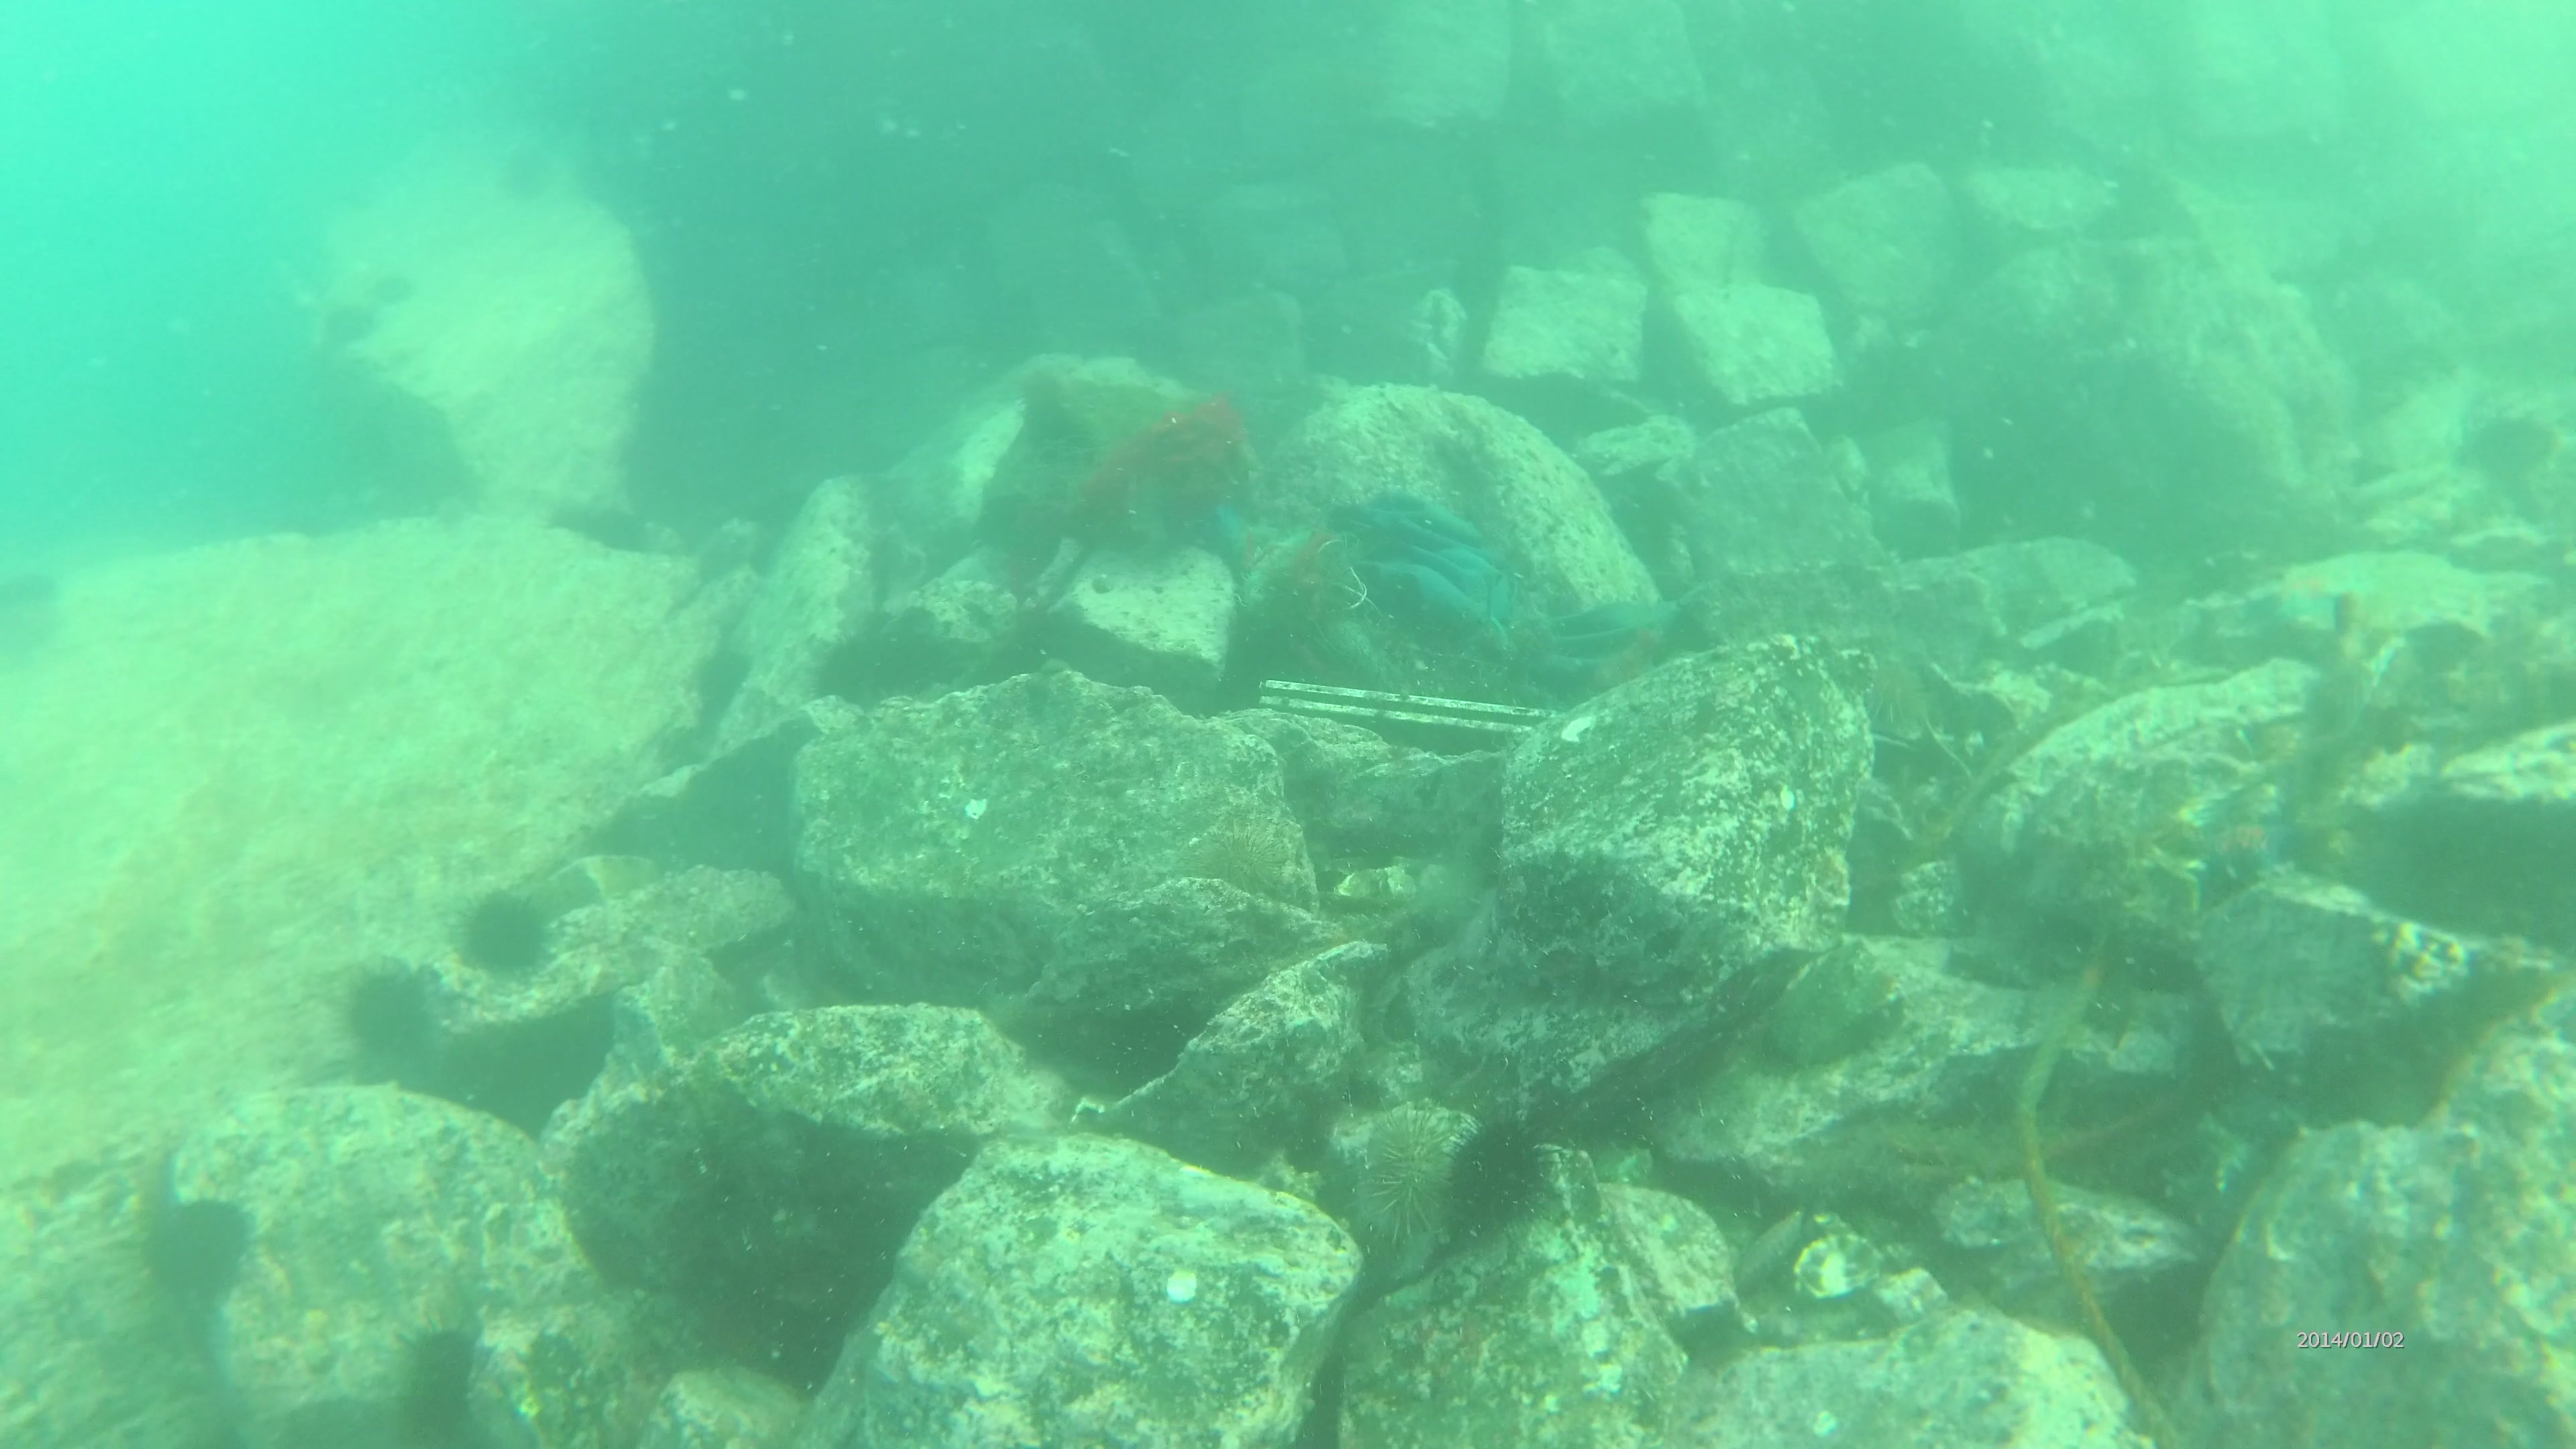echinus: (1445, 1104, 1562, 1242), (1368, 1095, 1465, 1242), (140, 1194, 257, 1302), (1200, 819, 1306, 918), (453, 883, 557, 980), (534, 492, 639, 589), (405, 1322, 497, 1424), (349, 961, 439, 1062), (0, 571, 74, 669), (370, 264, 430, 313), (497, 150, 557, 200), (317, 297, 377, 345)
starfish: (2197, 801, 2304, 885)
